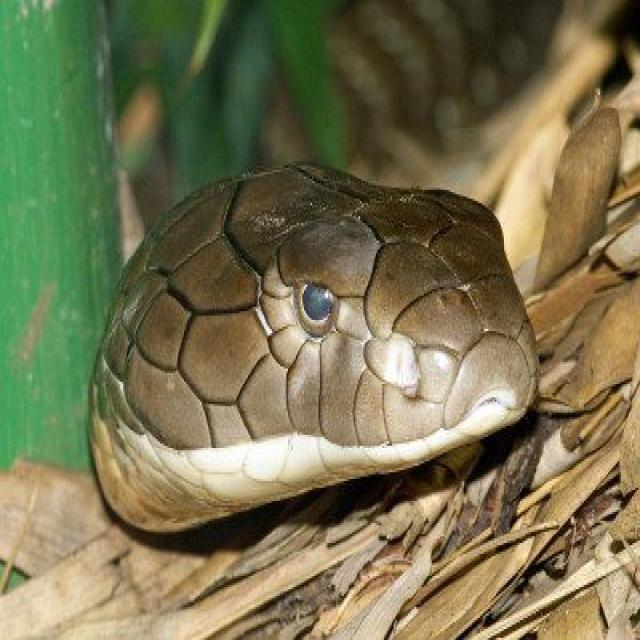Snake: (85, 156, 541, 536)
